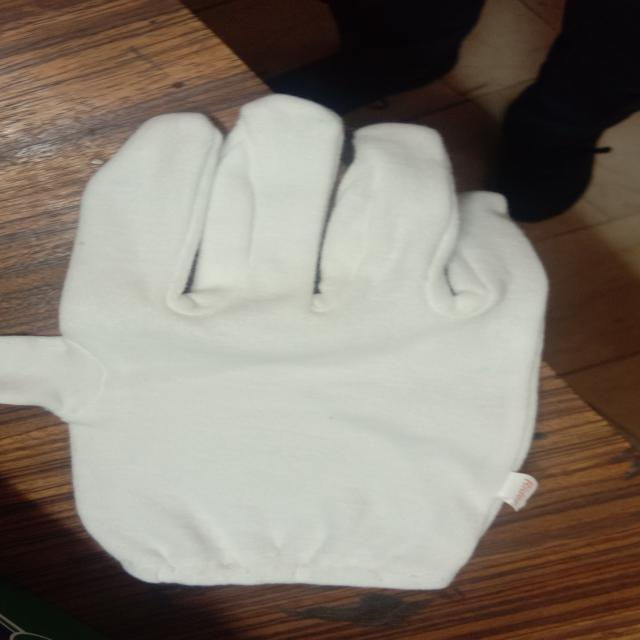gloved_hand: (1, 91, 562, 594)
